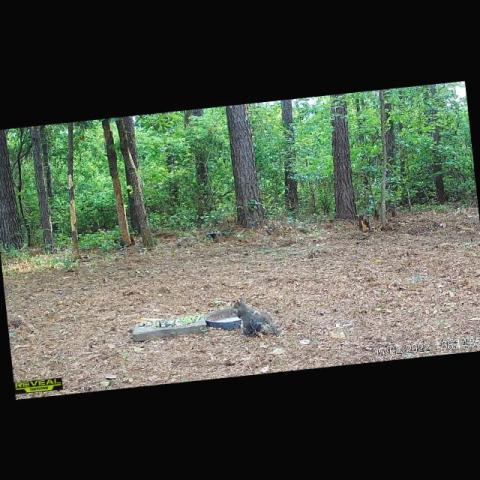small_animal: (230, 297, 280, 339)
